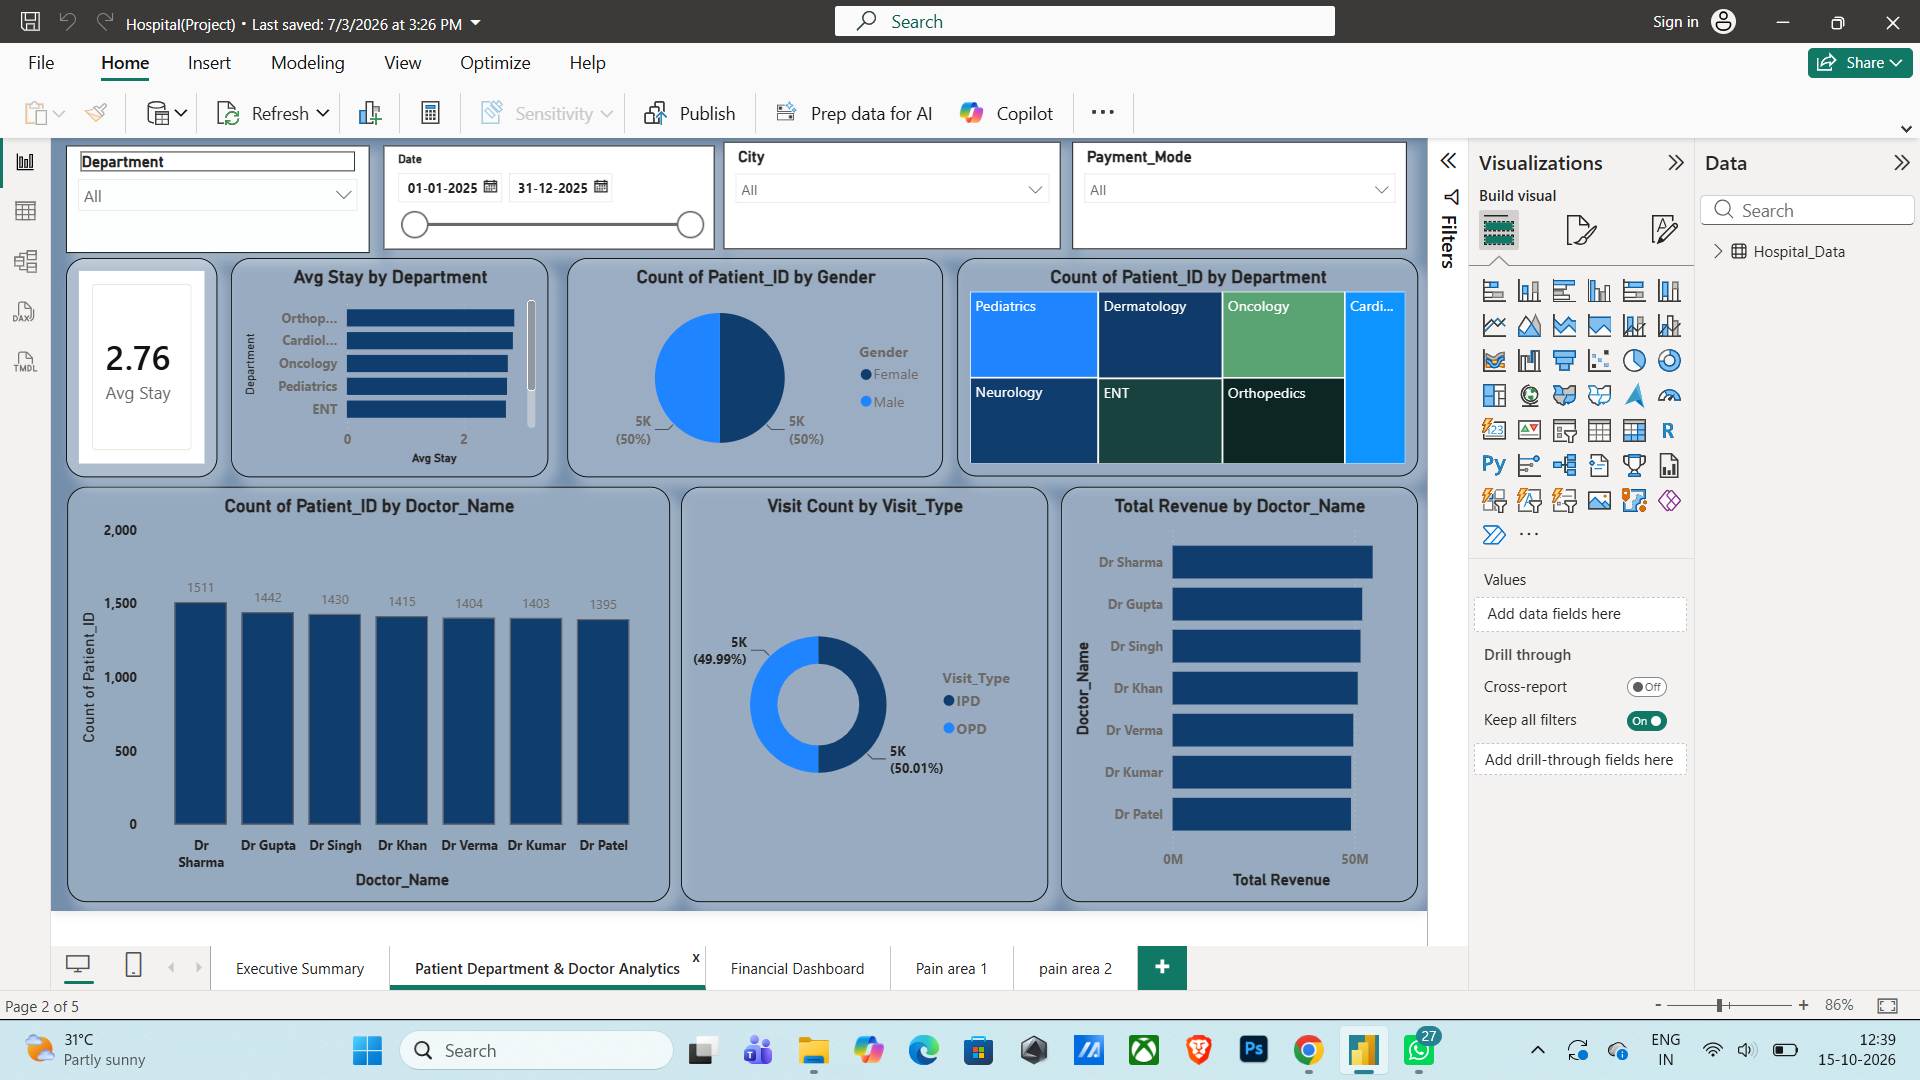

This screenshot's page, from the dashboard's own definition file:
{"tool":"powerbi","page":{"name":"Patient Department & Doctor Analytics","canvas":[1280,720],"ordinal":1},"visuals":[{"type":"slicer","fields":{"Values":["Hospital_Data.Date"]},"box":[308.8,7.2,307.6,96.5],"z":0},{"type":"slicer","fields":{"Values":["Hospital_Data.Department"]},"box":[14.5,7.2,282.3,100.1],"z":1000},{"type":"slicer","fields":{"Values":["Hospital_Data.City"]},"box":[626.1,3.6,313.7,100.1],"z":2000},{"type":"slicer","fields":{"Values":["Hospital_Data.Payment_Mode"]},"box":[949.5,3.6,311.3,100.1],"z":3000},{"type":"pieChart","fields":{"Category":["Hospital_Data.Gender"],"Y":["CountNonNull(Hospital_Data.Patient_ID)"]},"box":[480.2,112.2,349.9,203.9],"z":4000},{"type":"treemap","fields":{"Group":["Hospital_Data.Department"],"Values":["CountNonNull(Hospital_Data.Patient_ID)"]},"box":[843,111.6,429.1,203.5],"z":5000},{"type":"barChart","fields":{"Category":["Hospital_Data.Doctor_Name"],"Y":["Hospital_Data.Total Revenue"]},"box":[939.8,324.5,331.8,386.1],"z":6000},{"type":"clusteredColumnChart","fields":{"Category":["Hospital_Data.Doctor_Name"],"Y":["Count(Hospital_Data.Patient_ID)"]},"box":[15.7,324.5,561,386.1],"z":7000},{"type":"barChart","fields":{"Category":["Hospital_Data.Department"],"Y":["Hospital_Data.Avg Stay"]},"box":[167.7,112.2,295.6,203.9],"z":8000},{"type":"cardVisual","fields":{"Data":["Hospital_Data.Avg Stay"]},"box":[14.5,112.2,141.2,203.9],"z":9000},{"type":"donutChart","fields":{"Category":["Hospital_Data.Visit_Type"],"Y":["Hospital_Data.Visit Count"]},"box":[586.3,324.5,341.4,386.1],"z":10000}]}

Visuals, with their boxes on the page's 1280x720 design canvas (x1, y1, x2, y2). These are canvas units, not pixel positions in the 1920x1080 screenshot, which may show the page scaled, cropped or inside an application window:
slicer - Hospital_Data.Date: BBox(309, 7, 616, 104)
slicer - Hospital_Data.Department: BBox(14, 7, 297, 107)
slicer - Hospital_Data.City: BBox(626, 4, 940, 104)
slicer - Hospital_Data.Payment_Mode: BBox(950, 4, 1261, 104)
pieChart - Hospital_Data.Gender x CountNonNull(Hospital_Data.Patient_ID): BBox(480, 112, 830, 316)
treemap - Hospital_Data.Department x CountNonNull(Hospital_Data.Patient_ID): BBox(843, 112, 1272, 315)
barChart - Hospital_Data.Doctor_Name x Hospital_Data.Total Revenue: BBox(940, 324, 1272, 711)
clusteredColumnChart - Hospital_Data.Doctor_Name x Count(Hospital_Data.Patient_ID): BBox(16, 324, 577, 711)
barChart - Hospital_Data.Department x Hospital_Data.Avg Stay: BBox(168, 112, 463, 316)
cardVisual - Hospital_Data.Avg Stay: BBox(14, 112, 156, 316)
donutChart - Hospital_Data.Visit_Type x Hospital_Data.Visit Count: BBox(586, 324, 928, 711)
